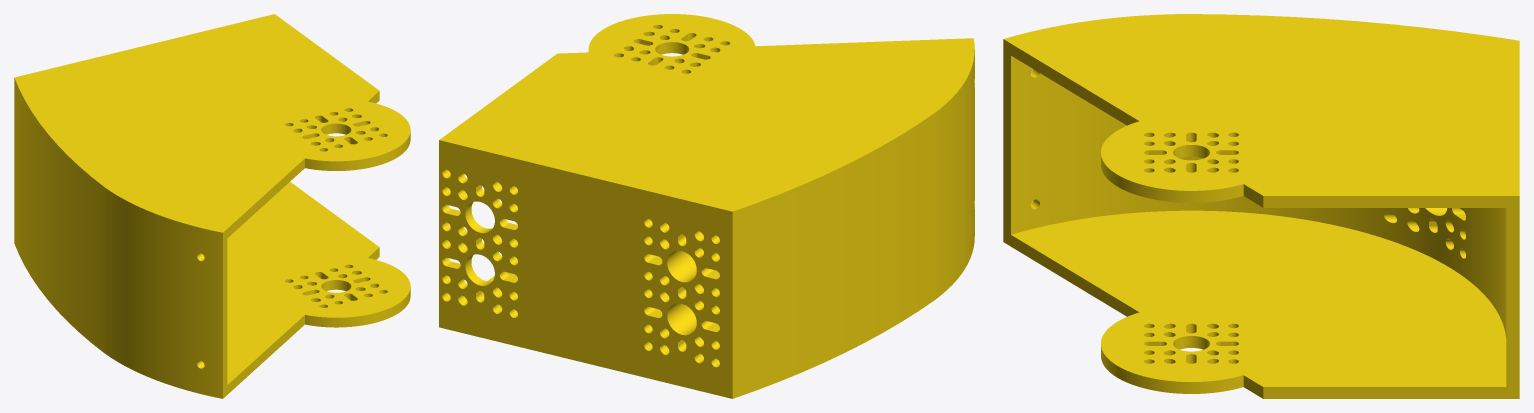
File: robot - Part 20.glb
The picture shows the model from 3 angles, left to right: view 1: azimuth 30°, elevation 25°; view 2: azimuth 150°, elevation 25°; view 3: azimuth 270°, elevation 25°; orthographic projection. The views are drawn at different scales.
Parts seen in each view (by area): view 1: Part 20; view 2: Part 20; view 3: Part 20.
Boxes of the visible parts, x1=… form: Part 20: x1=14, y1=14, x2=410, y2=398; Part 20: x1=439, y1=14, x2=974, y2=398; Part 20: x1=1003, y1=14, x2=1519, y2=398.
Bounding box in the file's own units: 0.1635 × 0.0851 × 0.1961.
